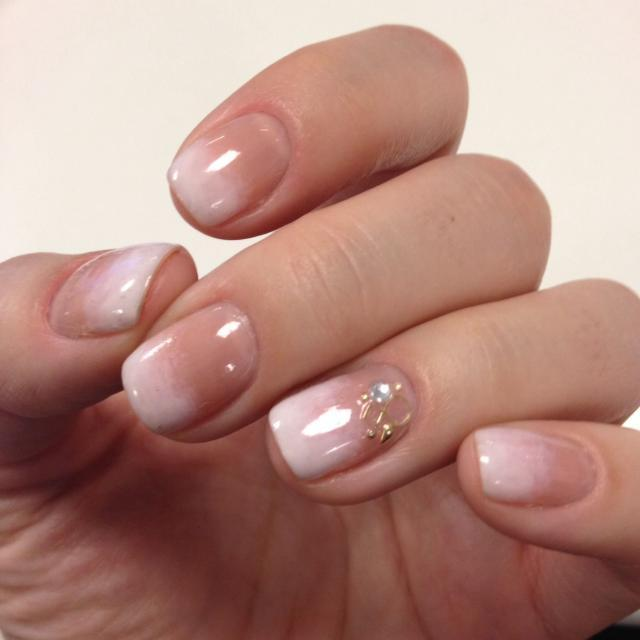Nail: (122, 302, 259, 432), (270, 364, 418, 479), (169, 112, 292, 227), (50, 244, 173, 337), (475, 429, 598, 504)
